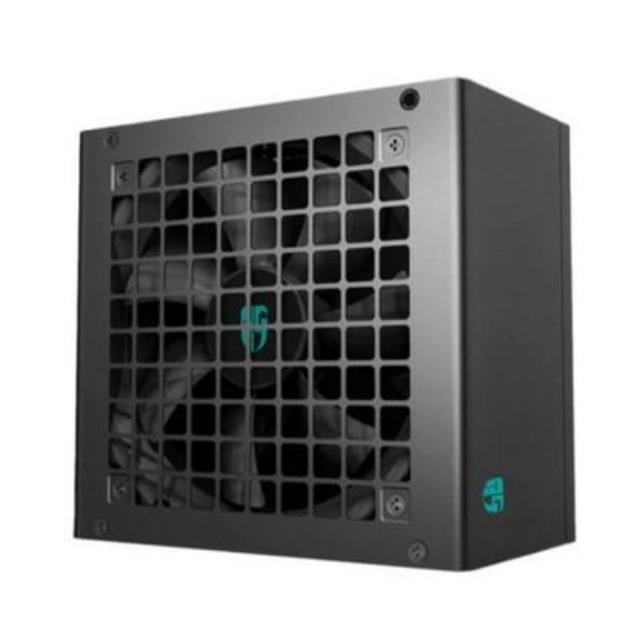PSU: (61, 66, 584, 588)
